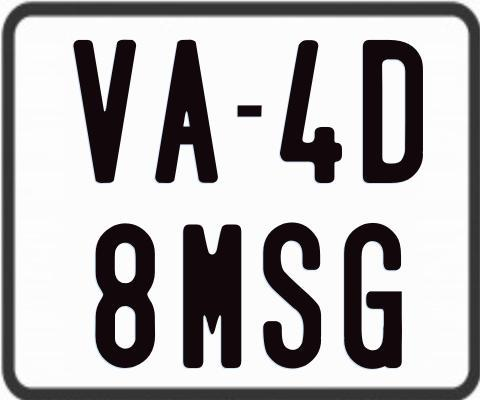4: (280, 38, 347, 183)
8: (92, 221, 153, 372)
A: (152, 39, 221, 184)
D: (360, 37, 425, 185)
G: (343, 222, 403, 374)
M: (180, 224, 242, 374)
S: (260, 222, 324, 374)
V: (71, 38, 140, 184)
